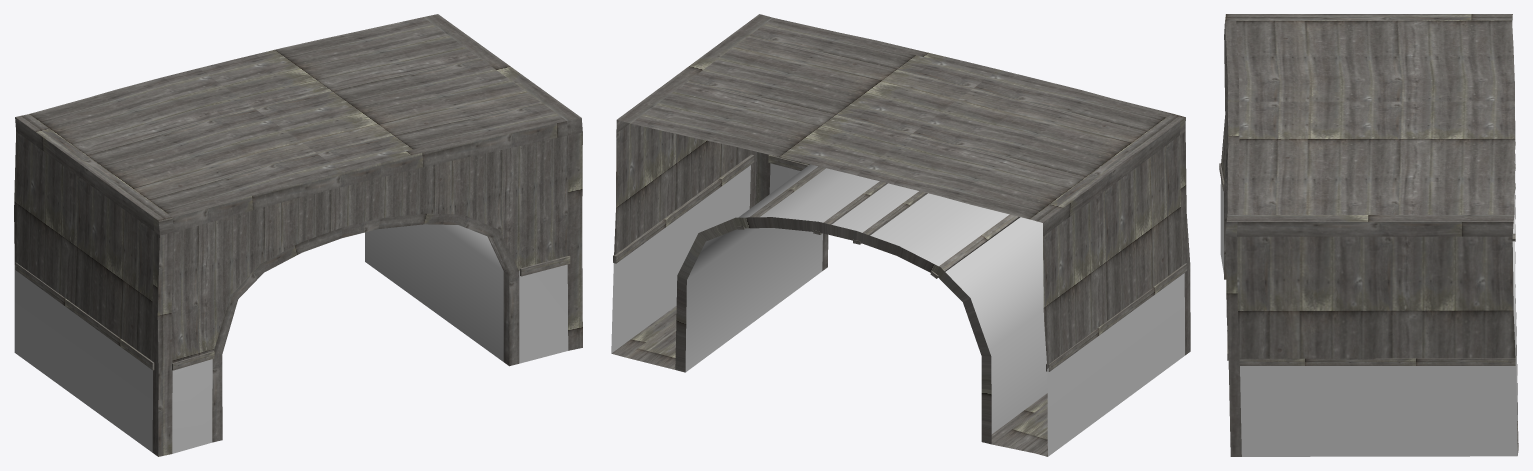
The model's file is jov_tunnel01.fbx.
3 views of the same model, side by side, from view 1: azimuth 30°, elevation 25°; view 2: azimuth 150°, elevation 25°; view 3: azimuth 270°, elevation 25° (orthographic).
Visible parts, largest first — view 1: jov_tunnel01; view 2: jov_tunnel01; view 3: jov_tunnel01.
Boxes of the visible parts, x1,y1,x2,y2 form: jov_tunnel01: [14, 14, 582, 456]; jov_tunnel01: [611, 14, 1190, 456]; jov_tunnel01: [1219, 14, 1518, 456].
Size of the model in its own units: 1041 by 547 by 624.
